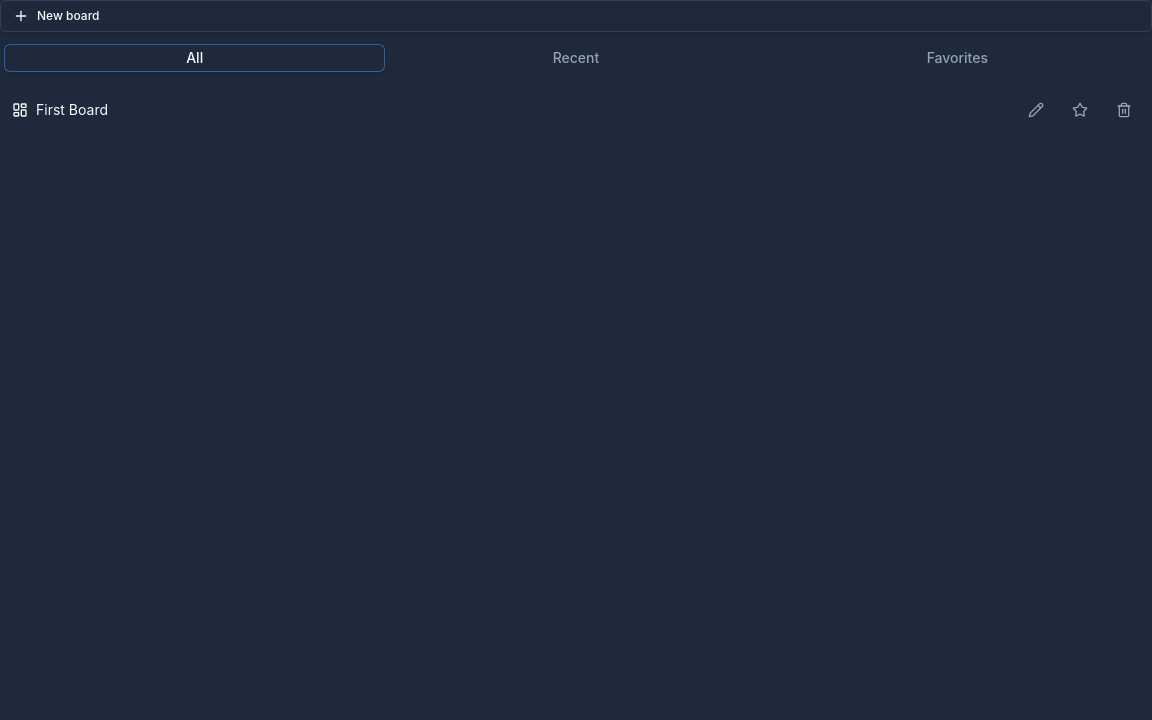
Test: BoardListSidebar › should create new board and add it to list when Create is submitted in dialog
Expected: the element with test id "board-list-sidebar" is shown, [0,0,1151,136]
Click the button with test id "board-list-new-board" at {"x": 68, "y": 16}, box [0,0,1151,32]
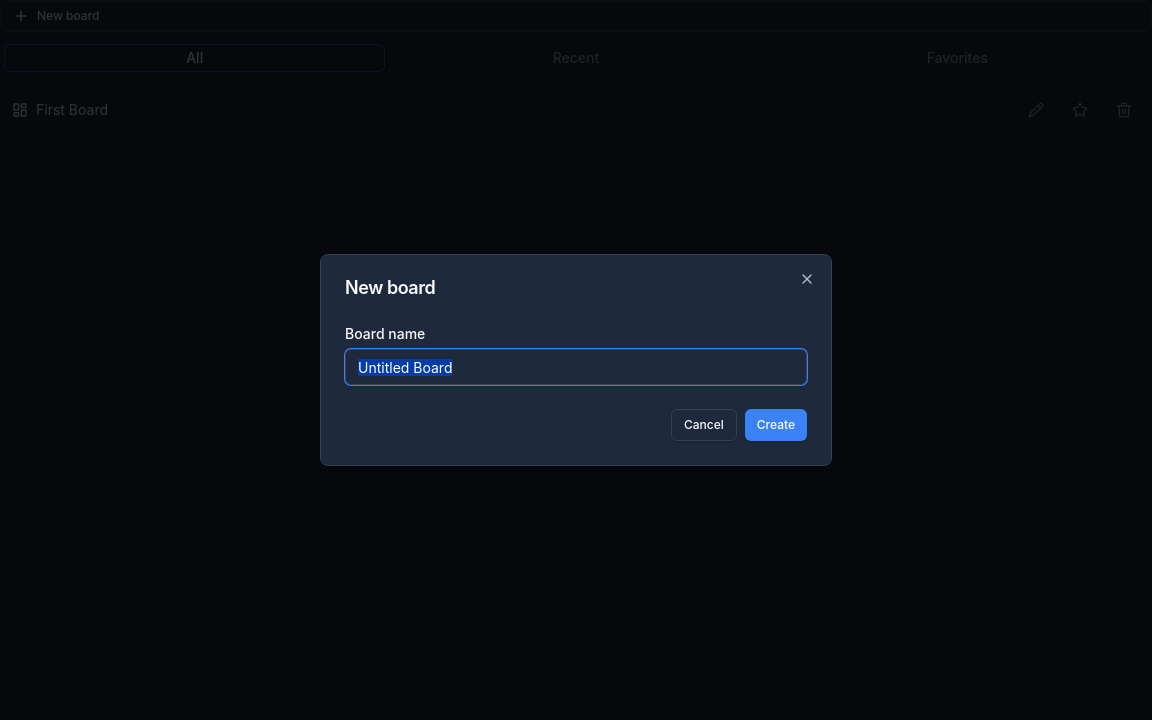
Expected: the field with test id "board-list-create-name-input" is shown
Type "My Board" into the field with test id "board-list-create-name-input" at {"x": 576, "y": 367}, box [345,349,807,385]
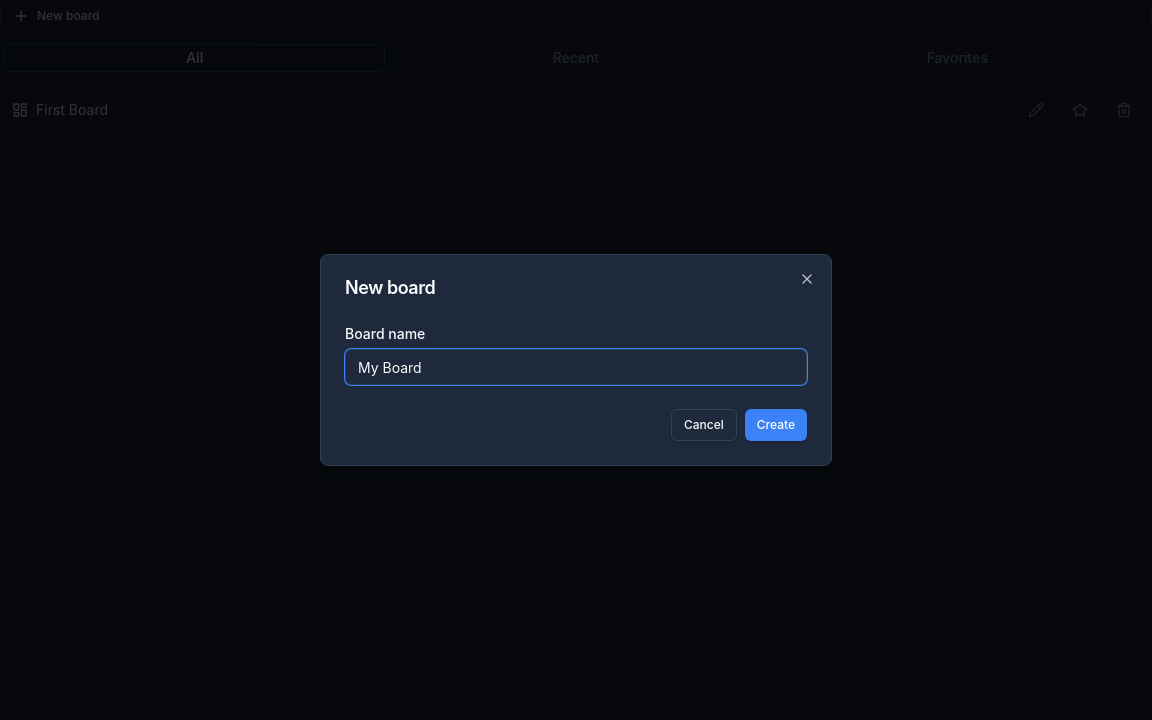
Click the button with test id "board-list-create-submit" at {"x": 776, "y": 425}, box [745,409,807,441]
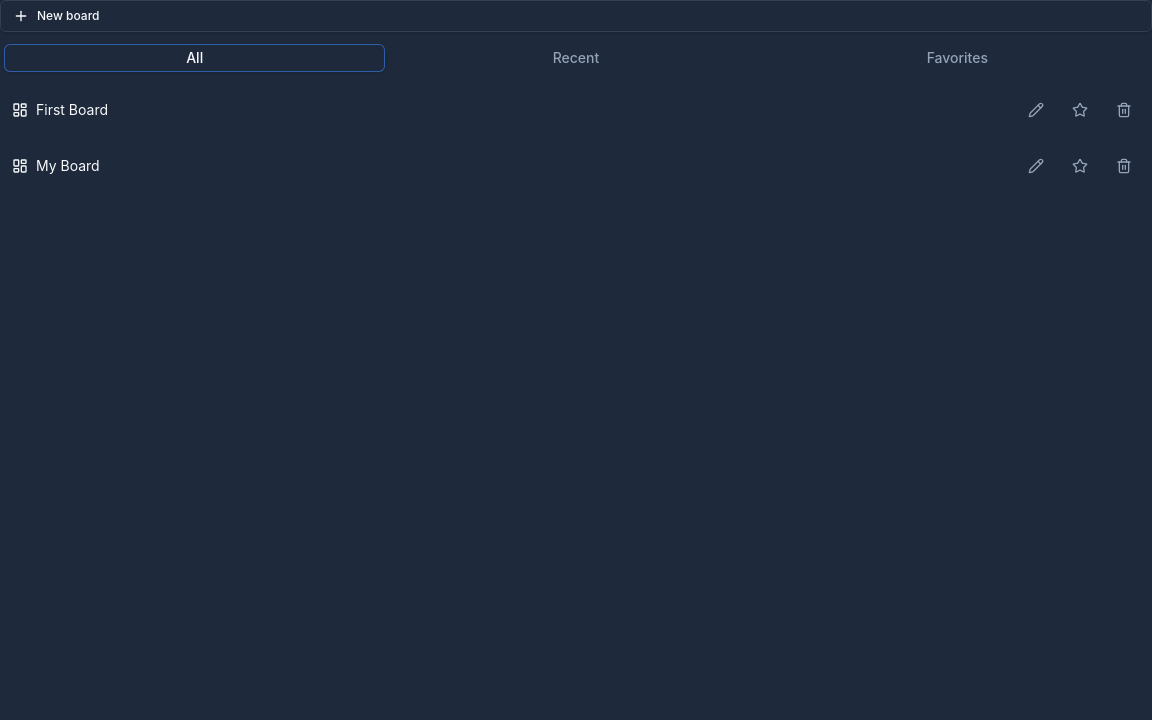
Expected: the button with test id "board-list-item-board-2" is shown, [12,156,1008,176]
Expected: the text "My Board" is shown, [36,156,100,176]
